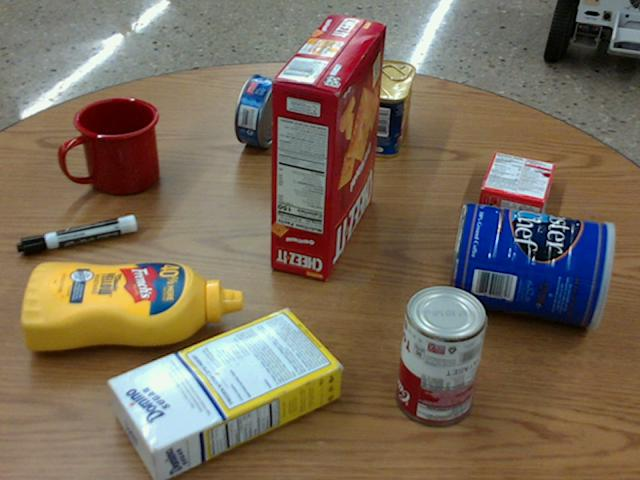cracker_box: (270, 13, 385, 278)
gelatin_box: (478, 150, 553, 219)
large_marker: (17, 214, 136, 255)
master_chef_can: (449, 199, 615, 326)
mug: (61, 98, 158, 195)
mustard_bottle: (22, 259, 242, 351)
potted_meat_can: (360, 59, 414, 157)
sugar_box: (104, 307, 340, 479)
tomato_soup_can: (398, 283, 487, 423)
tuna_fish_can: (233, 74, 287, 147)
